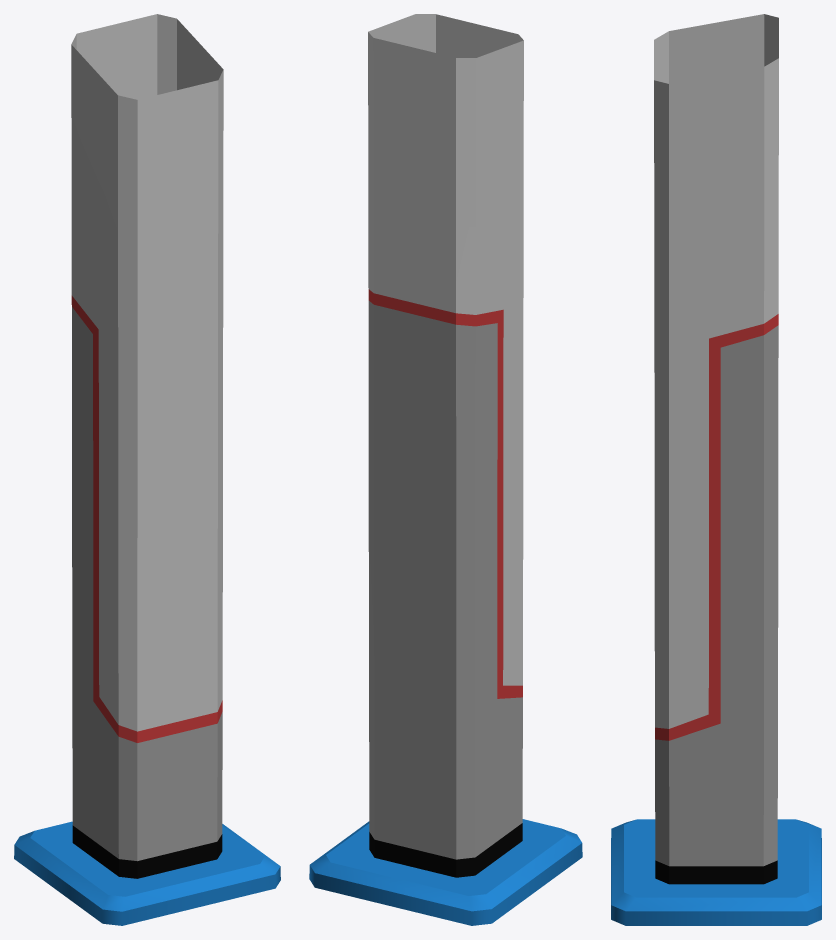
The model's file is LS_Stand_3.fbx.
The picture shows the model from 3 angles, left to right: view 1: azimuth 30°, elevation 25°; view 2: azimuth 150°, elevation 25°; view 3: azimuth 270°, elevation 25°; orthographic projection. The views are drawn at different scales.
Visible parts, largest first — view 1: LS_Stand_3; view 2: LS_Stand_3; view 3: LS_Stand_3.
Boxes of the visible parts, bbox=[...] form: LS_Stand_3: bbox=[14, 14, 280, 925]; LS_Stand_3: bbox=[309, 14, 582, 925]; LS_Stand_3: bbox=[611, 14, 821, 925].
Size of the model in its own units: 296 by 1307 by 296.
